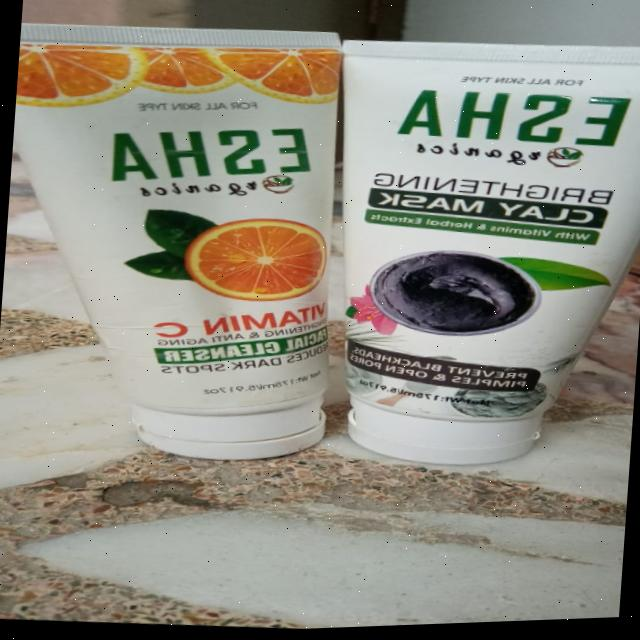sun block: (6, 10, 640, 496)
